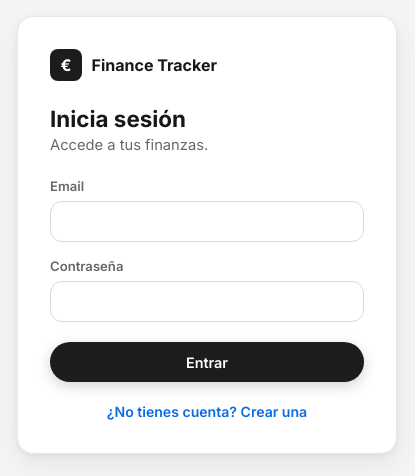
Test: LoginPage › toggles to the sign up form
Click the button "¿No tienes cuenta? Crear una". click: (207,411)
box: [50,402,364,421]
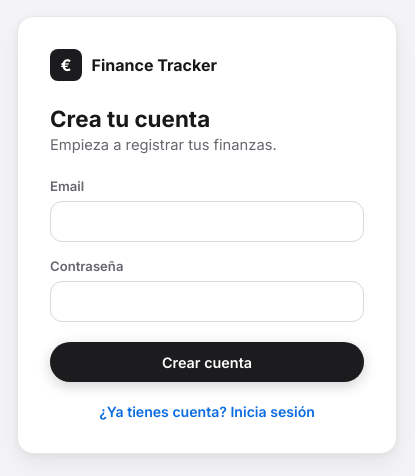
Result: the heading "Crea tu cuenta" is shown at [50,105,210,132]
Result: the button "Crear cuenta" is shown at [50,342,364,382]
